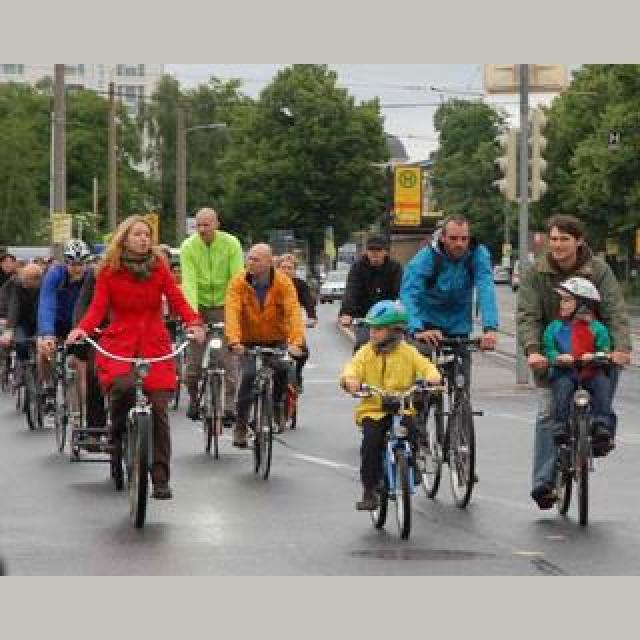MC-Bike: (66, 214, 206, 502), (400, 216, 500, 460), (512, 216, 632, 398), (338, 302, 444, 508), (536, 268, 628, 470), (224, 244, 310, 446), (180, 206, 244, 422), (34, 240, 98, 420), (338, 232, 404, 350)
Person: (360, 386, 438, 538), (102, 346, 166, 528), (548, 362, 618, 528), (420, 340, 484, 510), (232, 344, 300, 480)
